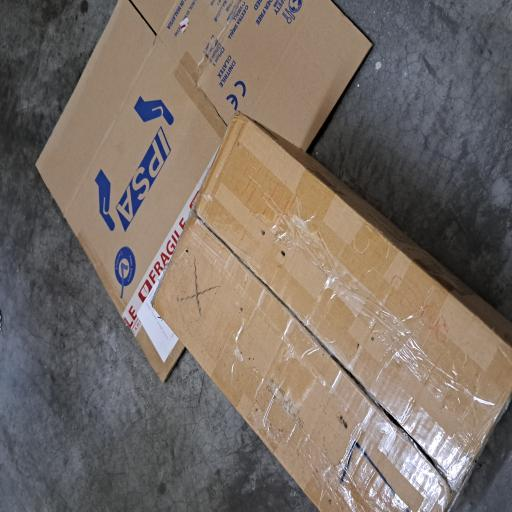cardboard: (98, 47, 384, 499), (0, 199, 301, 512)
